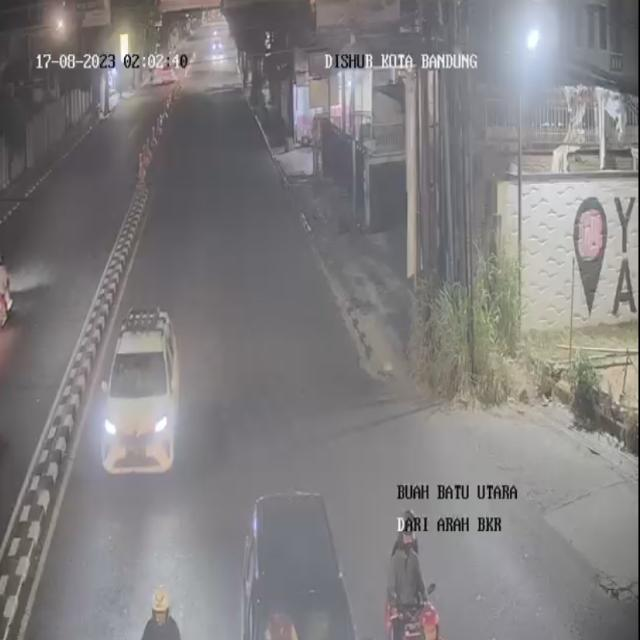cars: (236, 476, 355, 639), (98, 304, 185, 484)
motorcycle: (377, 508, 432, 638), (128, 577, 191, 640)
